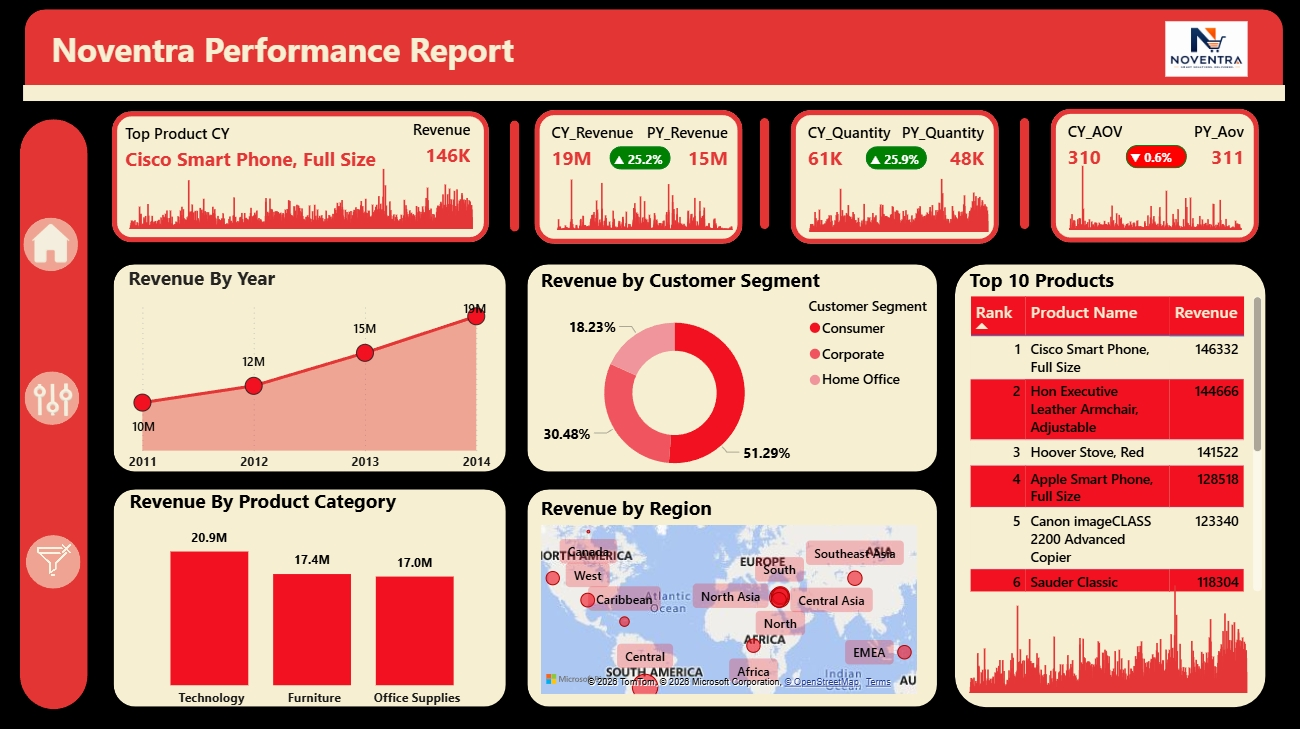

This screenshot's page, from the dashboard's own definition file:
{"tool":"powerbi","page":{"name":"Page 1","canvas":[1280,720],"ordinal":0},"visuals":[{"type":"group","id":"g1","title":"Header","box":[17.9,0,1252.9,98.6],"z":0},{"type":"shape","title":"Head Bar","box":[17.9,0,1252.9,98.6],"z":0,"group":"g1"},{"type":"shape","box":[1035.7,107.1,204.3,131.4],"z":0,"group":"g15"},{"type":"shape","title":"side panel pill bg","box":[13,107.7,84.3,597.1],"z":0,"group":"g3"},{"type":"shape","box":[528.6,108.6,204.3,131.4],"z":0,"group":"g9"},{"type":"shape","box":[780,108.6,204.3,131.4],"z":0,"group":"g12"},{"type":"shape","box":[112.7,110,370,128.6],"z":0,"group":"g16"},{"type":"shape","title":"separater","box":[494.2,110,27.1,127.1],"z":0,"group":"g8"},{"type":"image","title":"home icon","box":[33.2,214.2,39.3,50.3],"z":0,"group":"g10"},{"type":"shape","title":"bg","box":[105.7,250,402.9,221.4],"z":0,"group":"g14"},{"type":"shape","title":"bg","box":[511.4,250,420,221.4],"z":0,"group":"g4"},{"type":"shape","title":"bg","box":[931.4,250,322.9,452.9],"z":0,"group":"g6"},{"type":"image","title":"apply filter icon","box":[24.4,363.8,61.4,51.5],"z":0,"group":"g7"},{"type":"shape","title":"bg","box":[105.7,471.4,402.9,231.4],"z":0,"group":"g11"},{"type":"group","id":"g2","title":"revenue by region","box":[511.4,471.4,420,231.4],"z":0,"group":"g13"},{"type":"shape","title":"bg","box":[511.4,471.4,420,231.4],"z":0,"group":"g2"},{"type":"image","title":"clear filter icon","box":[27.3,516.6,55.2,67.5],"z":0,"group":"g5"},{"type":"shape","title":"head thin line","box":[25.2,82.9,1238.6,15.7],"z":1000,"group":"g1"},{"type":"cardVisual","fields":{"Data":["Measures_table.Top Product Revenue CY"]},"box":[311.3,97.1,182.9,87.1],"z":1000,"group":"g16"},{"type":"shape","title":"separater","box":[740,107.1,27.1,127.1],"z":1000,"group":"g8"},{"type":"group","id":"g3","title":"side panel","box":[13,107.7,84.3,597.1],"z":1000},{"type":"shape","box":[1108.5,142.8,60,22.9],"z":1000,"group":"g15"},{"type":"shape","box":[601.4,144.3,60,22.9],"z":1000,"group":"g9"},{"type":"shape","box":[852.8,144.3,60,22.9],"z":1000,"group":"g12"},{"type":"shape","title":"home bg","box":[25.8,213.8,54,52.8],"z":1000,"group":"g10"},{"type":"group","id":"g4","title":"revenue by customer segment","box":[511.4,250,420,235.7],"z":1000,"group":"g13"},{"type":"areaChart","title":"Revenue By Year","fields":{"Y":["Sum(orders.revenue)"],"Category":["dates.year"]},"box":[124.3,260,365.7,211.4],"z":1000,"group":"g14"},{"type":"donutChart","title":"Revenue by Customer Segment","fields":{"Category":["customers.customer_segment"],"Y":["Sum(orders.revenue)"]},"box":[528.5,261.4,402.9,224.3],"z":1000,"group":"g4"},{"type":"shape","title":"apply filter bg","box":[26.9,364.2,54,52.8],"z":1000,"group":"g7"},{"type":"columnChart","title":"Revenue By Product Category","fields":{"Category":["products.product_category"],"Y":["Sum(orders.revenue)"]},"box":[125.7,478.5,372.9,224.3],"z":1000,"group":"g11"},{"type":"map","title":"Revenue by Region","fields":{"Size":["Sum(orders.revenue)"],"Category":["locations.region"]},"box":[528.5,485.7,378.6,200],"z":1000,"group":"g2"},{"type":"group","id":"g5","title":"side clear filter button","box":[27.3,516.6,55.7,67.1],"z":1000,"group":"g3"},{"type":"shape","title":"clear filter bg","box":[27.3,525.2,54,52.8],"z":1000,"group":"g5"},{"type":"cardVisual","fields":{"Data":["Measures_table.Top Product CY"]},"box":[97.1,100.5,355.7,87.1],"z":2000,"group":"g16"},{"type":"shape","title":"separater","box":[995.7,107.1,27.1,127.1],"z":2000,"group":"g8"},{"type":"cardVisual","fields":{"Data":["Measures_table.yoy AOV %"]},"box":[1084.2,122.8,137.1,62.9],"z":2000,"group":"g15"},{"type":"cardVisual","fields":{"Data":["Measures_table.yoy revenue %"]},"box":[577.1,124.3,137.1,62.9],"z":2000,"group":"g9"},{"type":"cardVisual","fields":{"Data":["Measures_table.yoy Qty %"]},"box":[828.5,124.3,137.1,62.9],"z":2000,"group":"g12"},{"type":"group","id":"g6","title":"top 10 product","box":[931.4,250,322.9,452.9],"z":2000,"group":"g13"},{"type":"tableEx","title":"Top 10 Products","fields":{"Values":["Measures_table.product rank","products.product_name","Measures_table.CY_Revenue"]},"box":[950,261.4,297.1,324.3],"z":2000,"group":"g6"},{"type":"group","id":"g7","title":"side apply filter button","box":[24.4,363.8,60,52.9],"z":2000,"group":"g3"},{"type":"columnChart","title":"graph design","fields":{"Category":["orders.order_date"],"Y":["Sum(orders.revenue)"]},"box":[949.4,542.9,282.9,142.9],"z":2500,"group":"g6"},{"type":"group","id":"g8","title":"all cards","box":[97.1,97.1,1157.1,142.9],"z":3000},{"type":"cardVisual","fields":{"Data":["Measures_table.CY_AOV"]},"box":[1022.8,98.5,182.9,87.1],"z":3000,"group":"g15"},{"type":"group","id":"g9","title":"revenue card","box":[515.7,100,231.4,140],"z":3000,"group":"g8"},{"type":"cardVisual","fields":{"Data":["Measures_table.CY_Revenue"]},"box":[515.7,100,182.9,87.1],"z":3000,"group":"g9"},{"type":"cardVisual","fields":{"Data":["Measures_table.CY_Quantity"]},"box":[767.1,100,182.9,87.1],"z":3000,"group":"g12"},{"type":"columnChart","fields":{"Category":["orders.order_date"],"Y":["Sum(orders.revenue)"]},"box":[125.6,142.4,347.1,88.6],"z":3000,"group":"g16"},{"type":"group","id":"g10","title":"side home button","box":[25.8,213.8,54.3,51.4],"z":3000,"group":"g3"},{"type":"group","id":"g11","title":"revenue by product","box":[105.7,471.4,402.9,231.4],"z":3000,"group":"g13"},{"type":"cardVisual","fields":{"Data":["Measures_table.PY_Aov"]},"box":[1071.4,98.5,182.9,87.1],"z":4000,"group":"g15"},{"type":"cardVisual","fields":{"Data":["Measures_table.PY_Revenue"]},"box":[564.3,100,182.9,87.1],"z":4000,"group":"g9"},{"type":"group","id":"g12","title":"qty card","box":[767.1,100,231.4,140],"z":4000,"group":"g8"},{"type":"cardVisual","fields":{"Data":["Measures_table.PY_Quantity"]},"box":[815.7,100,182.9,87.1],"z":4000,"group":"g12"},{"type":"group","id":"g13","title":"all visuals","box":[105.7,250,1148.6,452.9],"z":4000},{"type":"group","id":"g14","title":"revenue by year","box":[105.7,250,402.9,221.4],"z":4000,"group":"g13"},{"type":"image","box":[1108.9,20.9,155.8,54.3],"z":4501},{"type":"group","id":"g15","title":"AOV card","box":[1022.8,98.5,231.4,140],"z":5000,"group":"g8"},{"type":"columnChart","fields":{"Category":["orders.customer_id"],"Y":["Sum(orders.revenue)"]},"box":[1048.9,139.1,185.7,92.9],"z":5000,"group":"g15"},{"type":"columnChart","fields":{"Category":["orders.order_date"],"Y":["Sum(orders.revenue)"]},"box":[792.4,153.5,185.7,80],"z":5000,"group":"g12"},{"type":"columnChart","fields":{"Category":["products.product_id"],"Y":["Sum(orders.revenue)"]},"box":[545.5,162,191.4,70],"z":5000,"group":"g9"},{"type":"group","id":"g16","title":"top product card","box":[97.1,97.1,397.1,141.4],"z":6000,"group":"g8"}]}

Visuals, with their boxes in screenshot pixels (x1, y1, x2, y2), scaled from the page's 1280x720 canvas onto the 1300x729 screenshot:
"Header" group: (18, 0, 1291, 100)
"Head Bar" shape: (18, 0, 1291, 100)
shape: (1052, 108, 1259, 241)
"side panel pill bg" shape: (13, 109, 99, 714)
shape: (537, 110, 744, 243)
shape: (792, 110, 1000, 243)
shape: (114, 111, 490, 242)
"separater" shape: (502, 111, 529, 240)
"home icon" image: (34, 217, 74, 268)
"bg" shape: (107, 253, 517, 477)
"bg" shape: (519, 253, 946, 477)
"bg" shape: (946, 253, 1274, 712)
"apply filter icon" image: (25, 368, 87, 420)
"bg" shape: (107, 477, 517, 712)
"revenue by region" group: (519, 477, 946, 712)
"bg" shape: (519, 477, 946, 712)
"clear filter icon" image: (28, 523, 84, 591)
"head thin line" shape: (26, 84, 1284, 100)
cardVisual - Measures_table.Top Product Revenue CY: (316, 98, 502, 187)
"separater" shape: (752, 108, 779, 237)
"side panel" group: (13, 109, 99, 714)
shape: (1126, 145, 1187, 168)
shape: (611, 146, 672, 169)
shape: (866, 146, 927, 169)
"home bg" shape: (26, 216, 81, 270)
"revenue by customer segment" group: (519, 253, 946, 492)
"Revenue By Year" areaChart: (126, 263, 498, 477)
"Revenue by Customer Segment" donutChart: (537, 265, 946, 492)
"apply filter bg" shape: (27, 369, 82, 422)
"Revenue By Product Category" columnChart: (128, 484, 506, 712)
"Revenue by Region" map: (537, 492, 921, 694)
"side clear filter button" group: (28, 523, 84, 591)
"clear filter bg" shape: (28, 532, 83, 585)
cardVisual - Measures_table.Top Product CY: (99, 102, 460, 190)
"separater" shape: (1011, 108, 1039, 237)
cardVisual - Measures_table.yoy AOV %: (1101, 124, 1240, 188)
cardVisual - Measures_table.yoy revenue %: (586, 126, 725, 190)
cardVisual - Measures_table.yoy Qty %: (841, 126, 981, 190)
"top 10 product" group: (946, 253, 1274, 712)
"Top 10 Products" tableEx: (965, 265, 1267, 593)
"side apply filter button" group: (25, 368, 86, 422)
"graph design" columnChart: (964, 550, 1252, 694)
"all cards" group: (99, 98, 1274, 243)
cardVisual - Measures_table.CY_AOV: (1039, 100, 1225, 188)
"revenue card" group: (524, 101, 759, 243)
cardVisual - Measures_table.CY_Revenue: (524, 101, 710, 189)
cardVisual - Measures_table.CY_Quantity: (779, 101, 965, 189)
columnChart - orders.order_date x Sum(orders.revenue): (128, 144, 480, 234)
"side home button" group: (26, 216, 81, 269)
"revenue by product" group: (107, 477, 517, 712)
cardVisual - Measures_table.PY_Aov: (1088, 100, 1274, 188)
cardVisual - Measures_table.PY_Revenue: (573, 101, 759, 189)
"qty card" group: (779, 101, 1014, 243)
cardVisual - Measures_table.PY_Quantity: (828, 101, 1014, 189)
"all visuals" group: (107, 253, 1274, 712)
"revenue by year" group: (107, 253, 517, 477)
image: (1126, 21, 1284, 76)
"AOV card" group: (1039, 100, 1274, 241)
columnChart - orders.customer_id x Sum(orders.revenue): (1065, 141, 1254, 235)
columnChart - orders.order_date x Sum(orders.revenue): (805, 155, 993, 236)
columnChart - products.product_id x Sum(orders.revenue): (554, 164, 748, 235)
"top product card" group: (99, 98, 502, 241)
